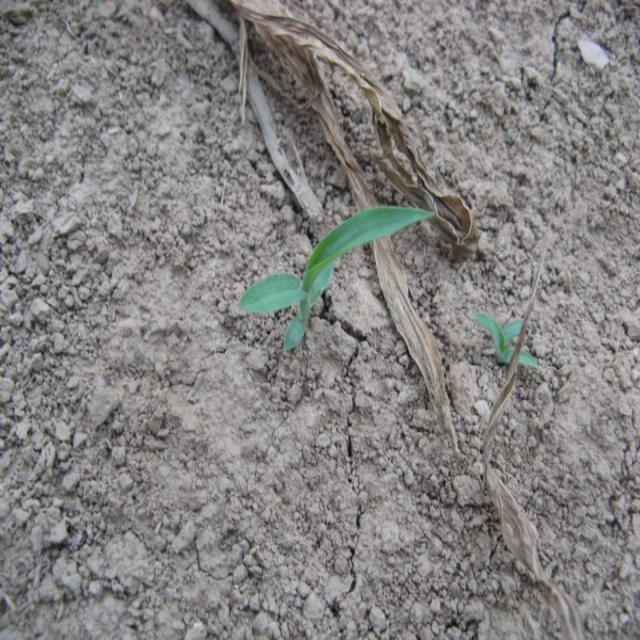bg: (237, 196, 435, 358)
